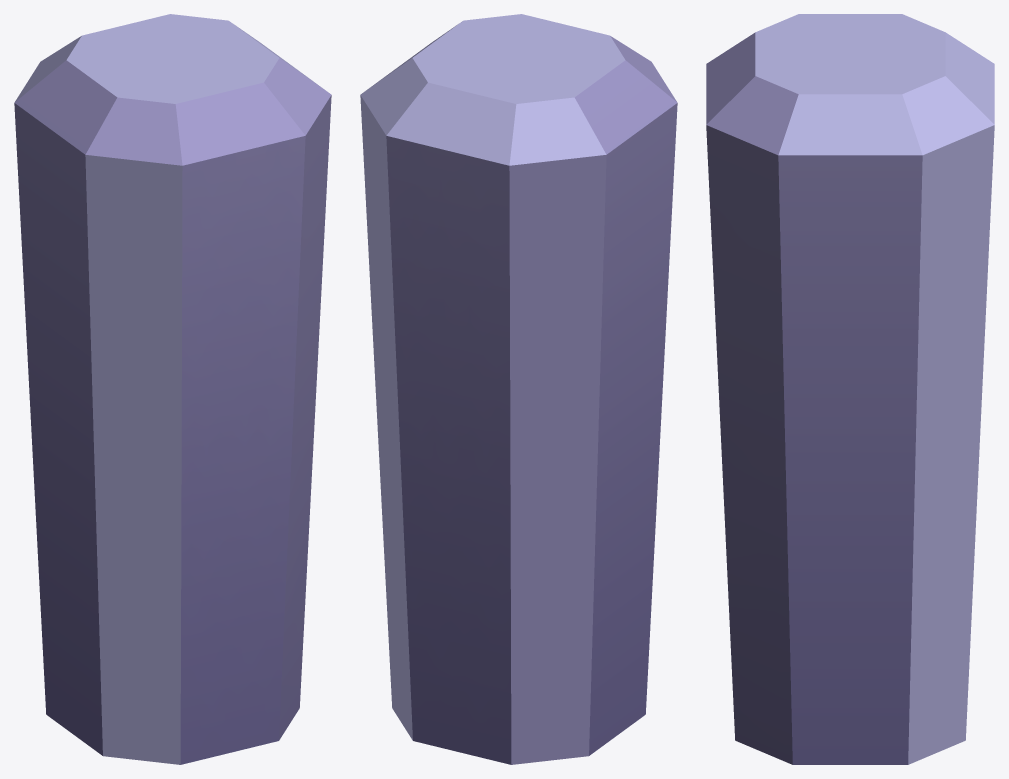
Rendered from Stone_3.fbx.
The picture shows the model from 3 angles, left to right: view 1: azimuth 30°, elevation 25°; view 2: azimuth 150°, elevation 25°; view 3: azimuth 270°, elevation 25°; orthographic projection.
Parts seen in each view (by area): view 1: Stone_3; view 2: Stone_3; view 3: Stone_3.
Boxes of the visible parts, x1,y1,x2,y2 form: Stone_3: (14,14,331,764); Stone_3: (360,14,677,764); Stone_3: (706,14,994,764).
Bounding box in the file's own units: 1.6 × 4.04 × 1.6.
Materials: 1 (1 with a texture image).
